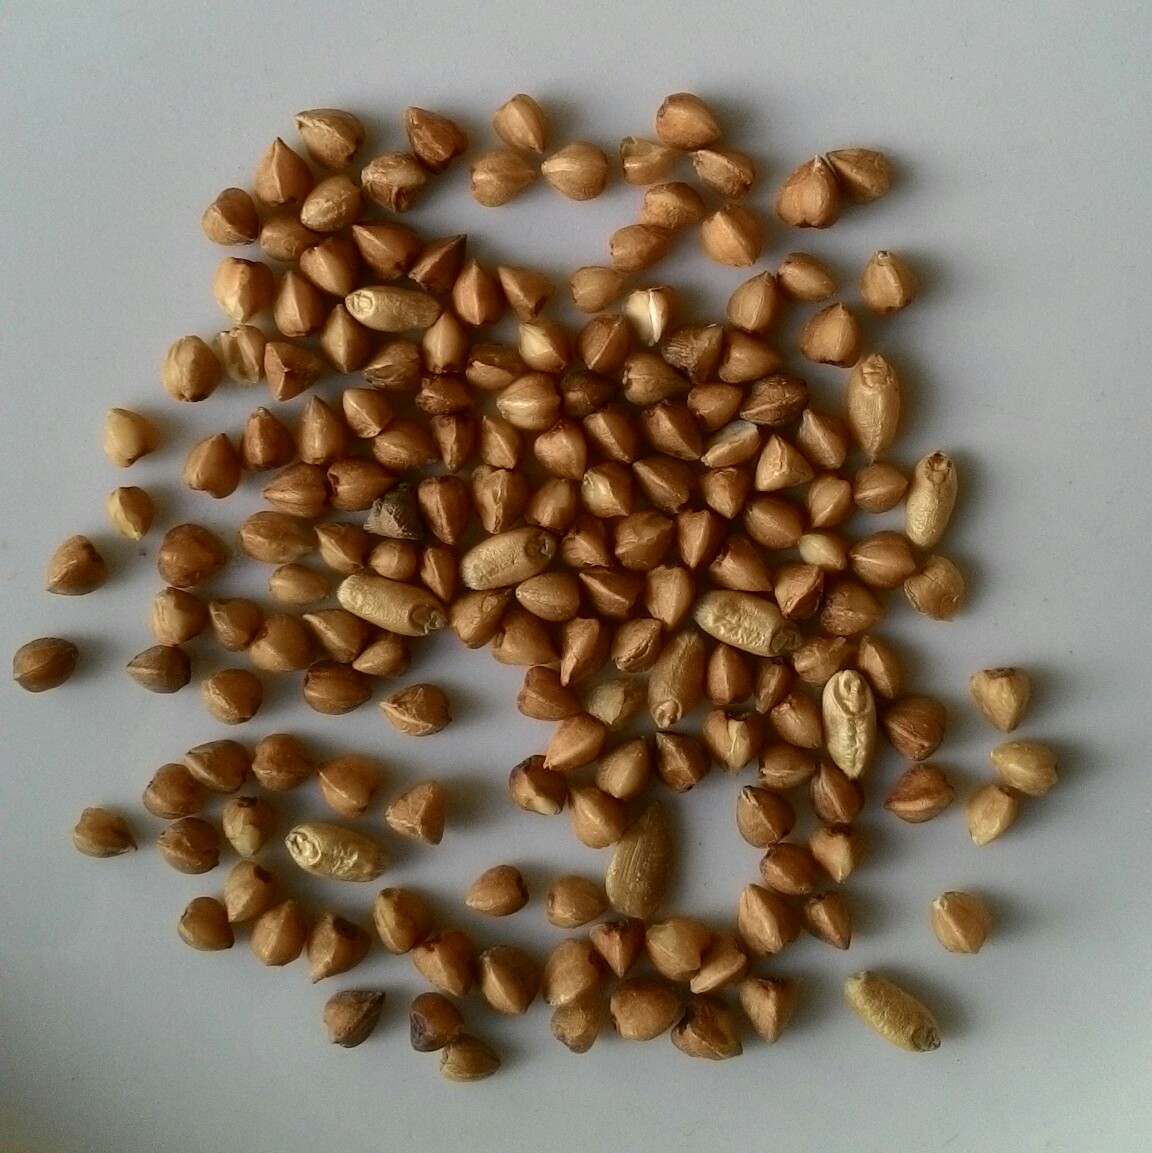semka: (600, 787, 685, 930)
wheat: (680, 579, 826, 667), (834, 960, 958, 1062), (276, 807, 408, 900), (320, 560, 457, 647), (894, 439, 974, 571), (812, 658, 892, 787), (837, 343, 914, 477), (636, 617, 716, 738), (449, 518, 565, 598), (334, 271, 460, 345)
